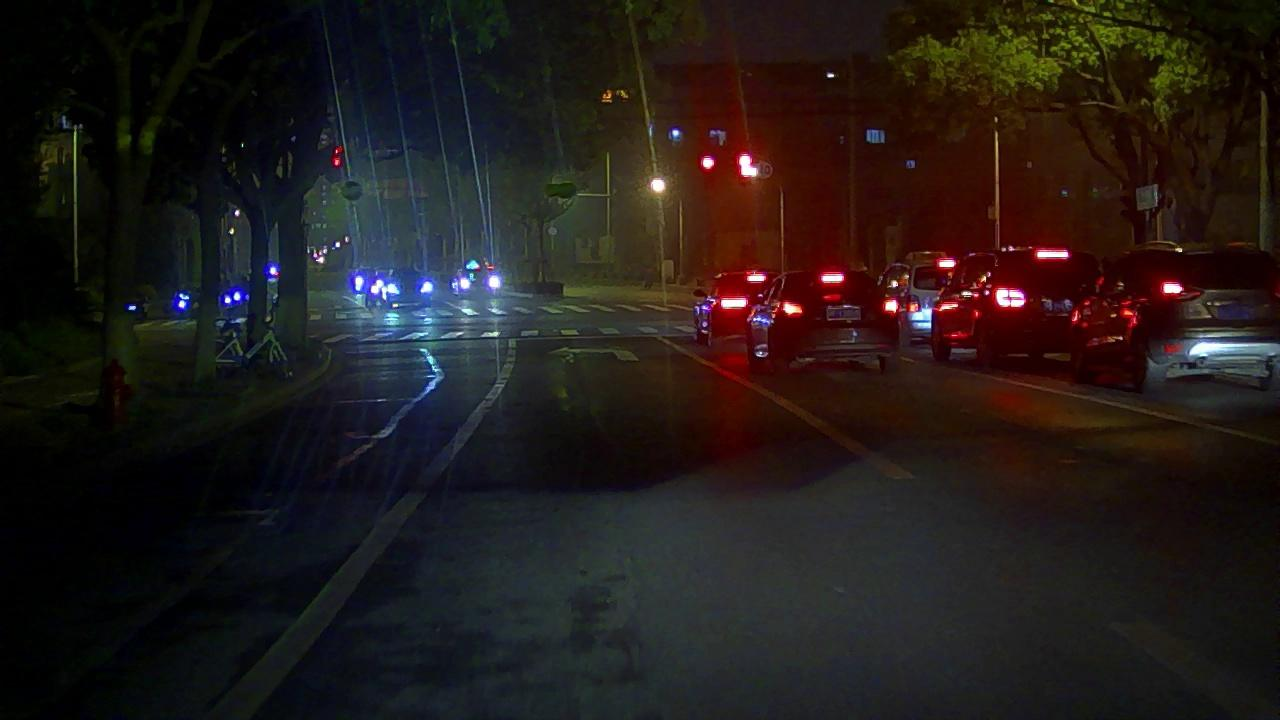traffic_light: (740, 155, 755, 178), (700, 157, 715, 169)
